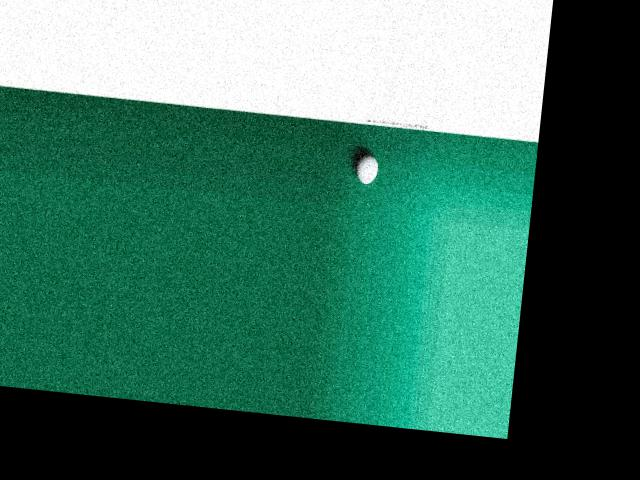egg: (356, 153, 380, 184)
